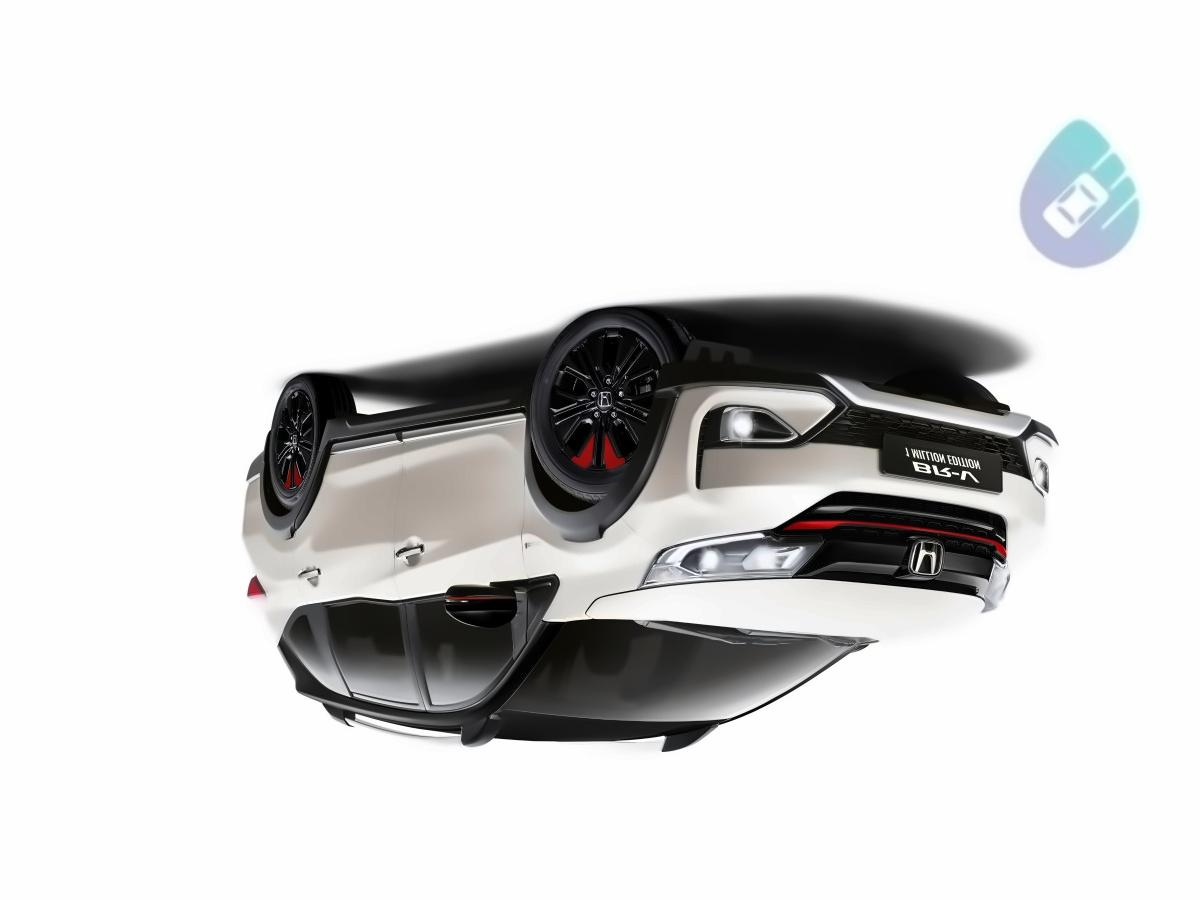Car hood: (586, 579, 996, 650)
Fender - -F-L-: (486, 440, 707, 643)
Fender - -R-L-: (242, 457, 370, 653)
Front bumper: (623, 364, 1068, 541)
Headlight - -L-: (639, 532, 830, 597)
Passenger-s door - -F-L-: (393, 387, 559, 740)
Passenger-s door - -R-L-: (290, 376, 429, 747)
Side bumper - -L-: (304, 377, 536, 488)
Side mirror - -L-: (432, 582, 536, 625)
